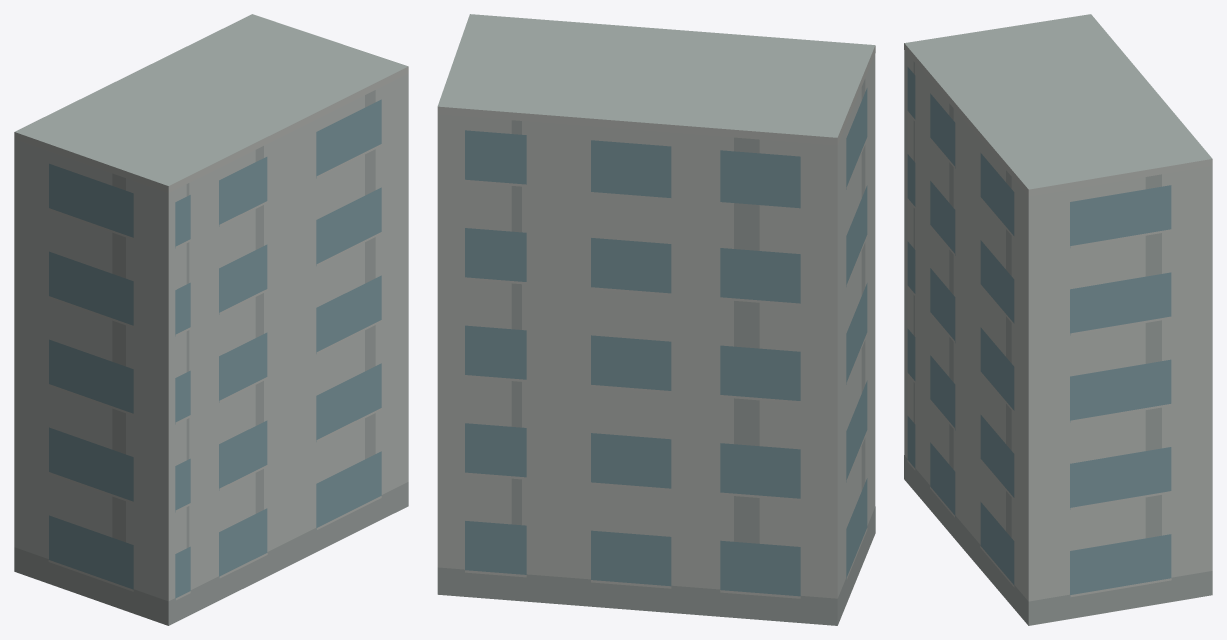
Rendered from survey-upis-32840331.glb.
The picture shows the model from 3 angles, left to right: view 1: azimuth 30°, elevation 25°; view 2: azimuth 150°, elevation 25°; view 3: azimuth 270°, elevation 25°; orthographic projection. The views are drawn at different scales.
Parts seen in each view (by area): view 1: survey-upis-32840331.tmp; view 2: survey-upis-32840331.tmp; view 3: survey-upis-32840331.tmp.
Part boxes in pixels (x1,y1,x2,y2): survey-upis-32840331.tmp: [14, 14, 408, 625]; survey-upis-32840331.tmp: [437, 14, 875, 625]; survey-upis-32840331.tmp: [904, 14, 1212, 625].
Size of the model in its own units: 13.17 by 15.25 by 9.78.
